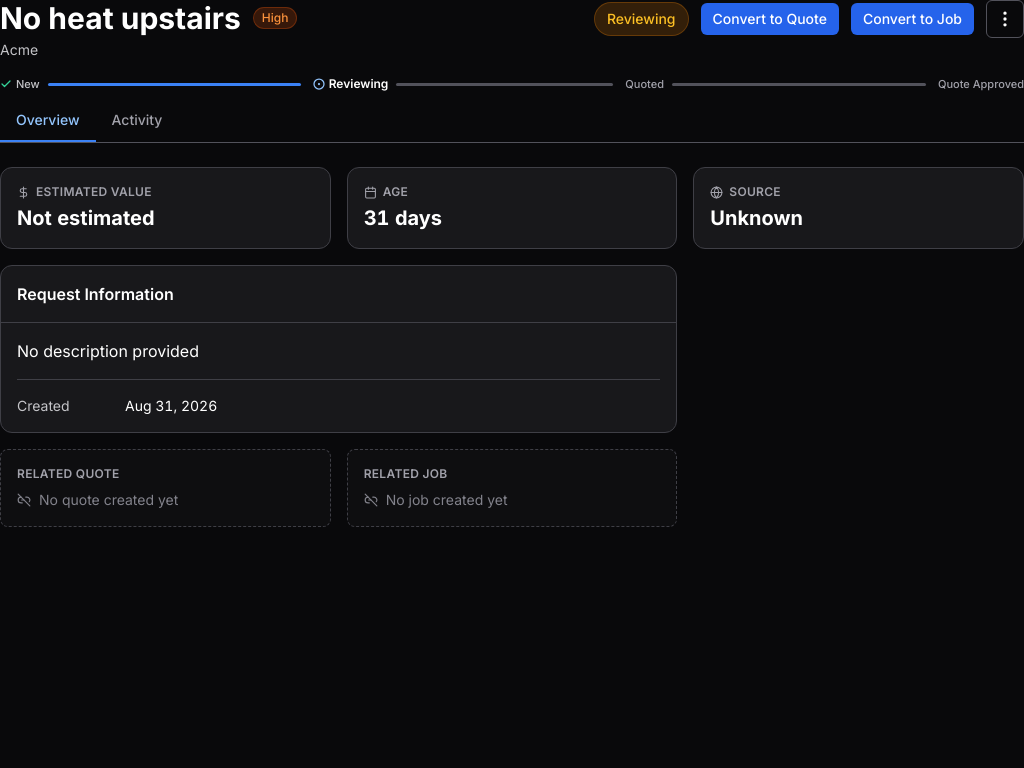
Scenario: RequestDetailPage — Cancel Request confirmation › leaves the request untouched when the confirmation is dismissed
Click the button named "Request actions".
click(1005, 19)  # box [986,0,1023,38]
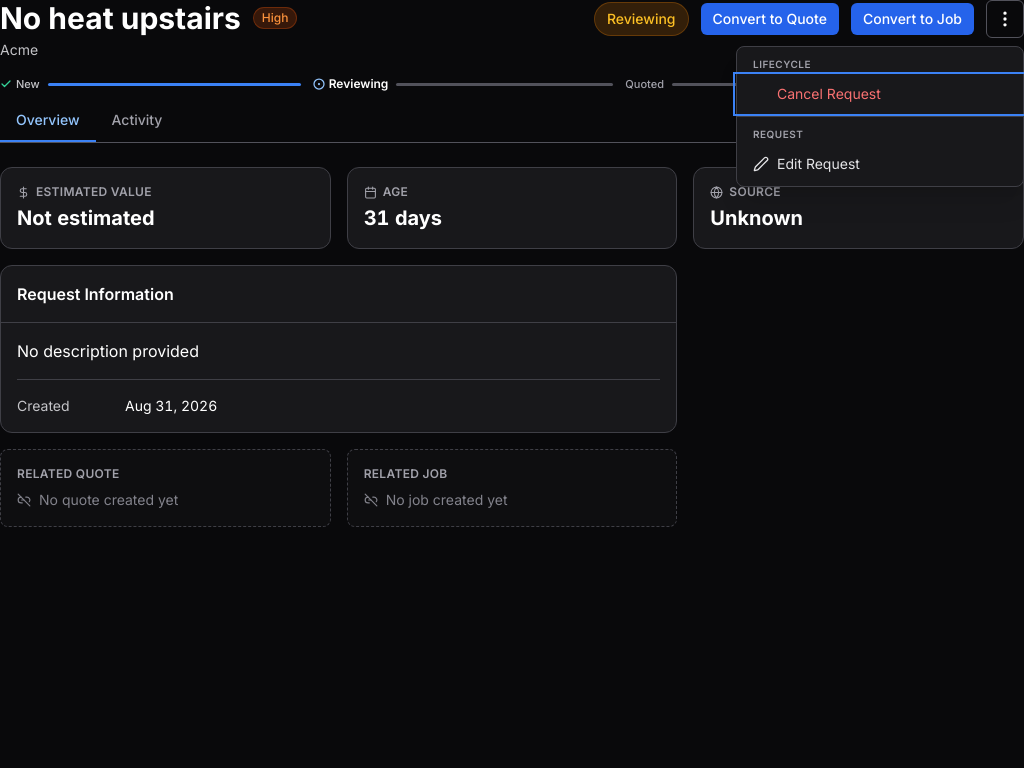
Click the menu item "Cancel Request".
click(880, 94)  # box [737,76,1023,112]
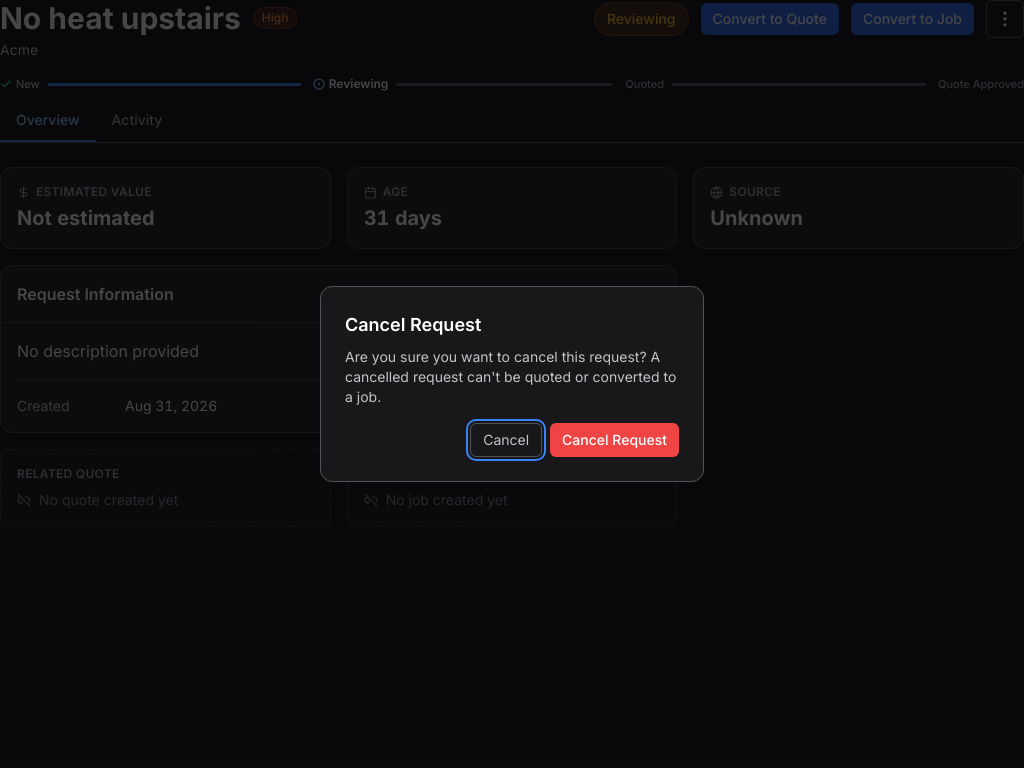
Click the button "Cancel".
click(506, 440)  # box [470,423,542,457]
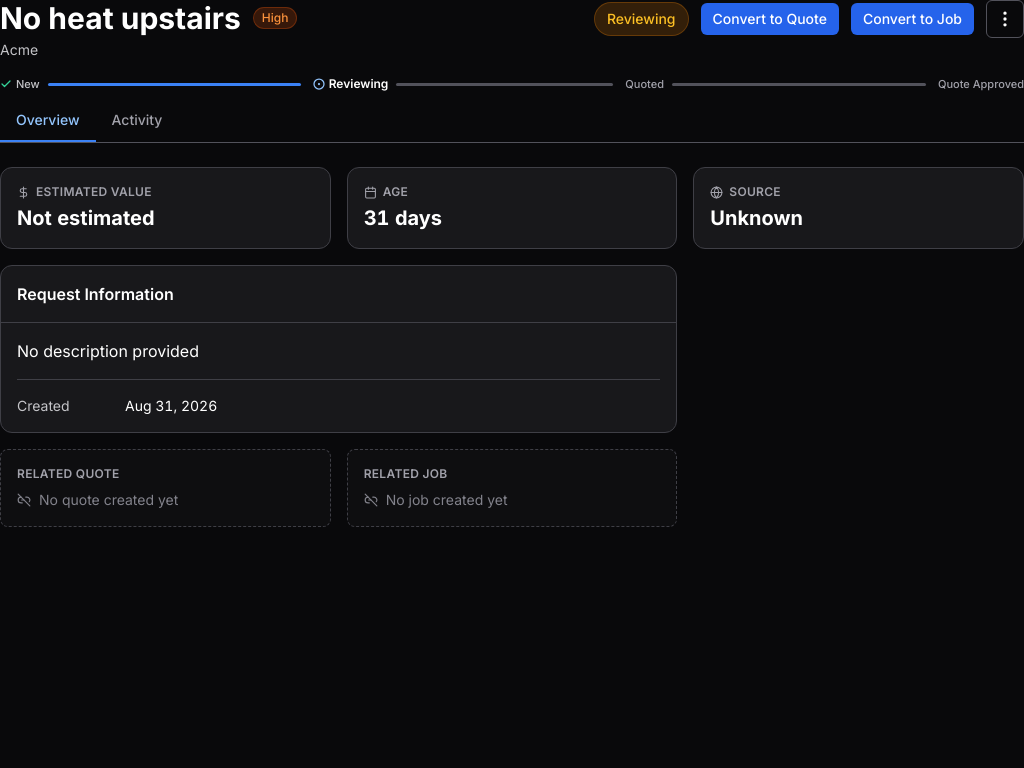
Now the dialog is gone
